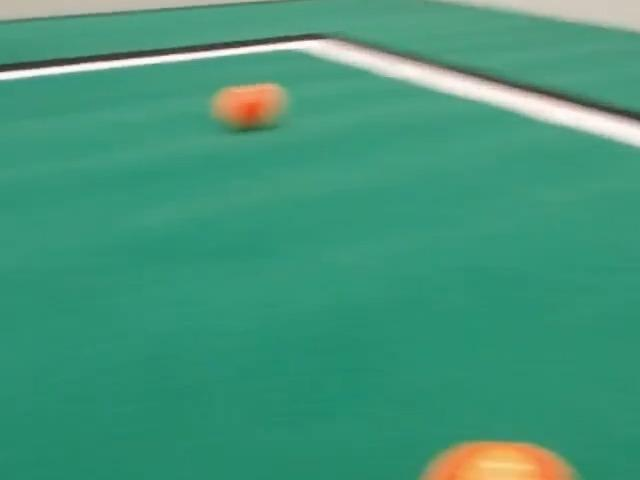Ball: (420, 442, 577, 479), (212, 83, 286, 129)
